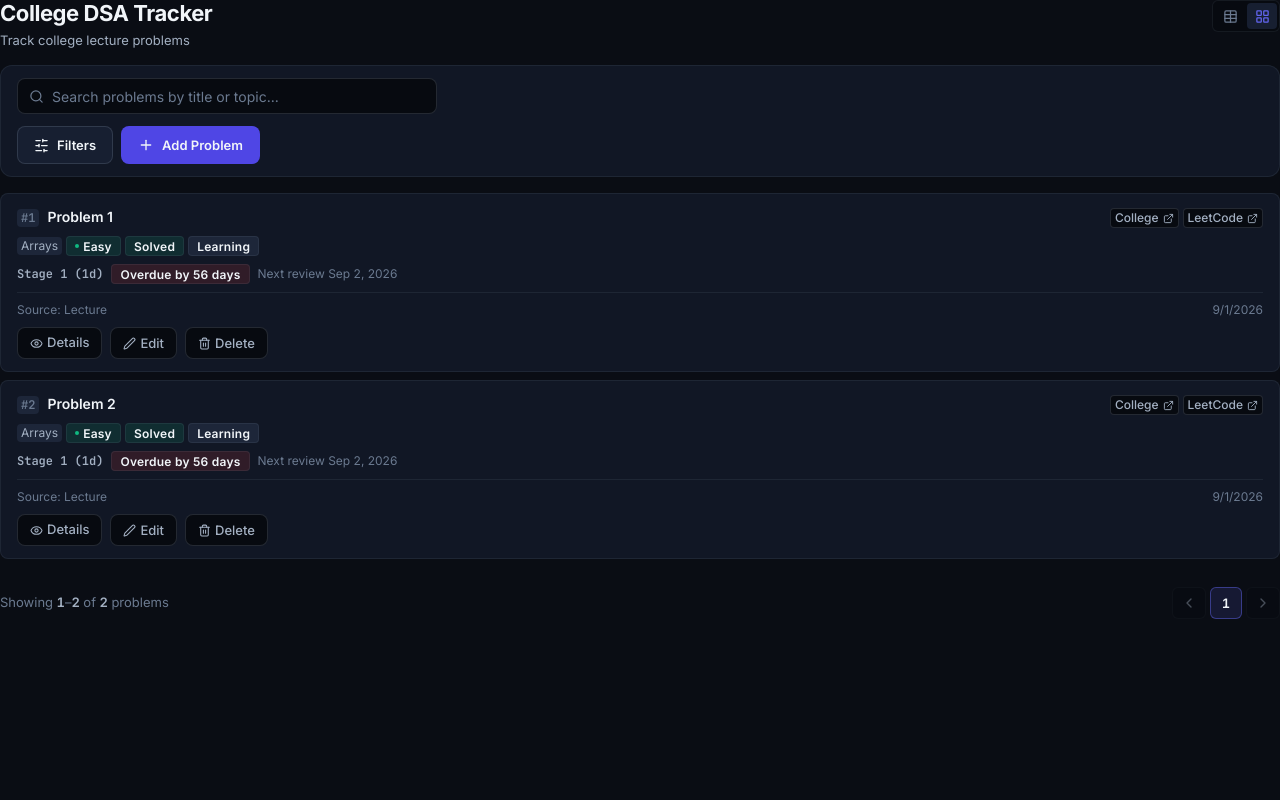
it: Phase 6 — Tracker toolbar and mobile filter drawer › moves the filters into a dialog drawer on narrow screens and closes it again
Expected: the field showing "All Difficulties" is not shown
Click the button "Filters".
click(65, 145)  # box [17,126,113,164]
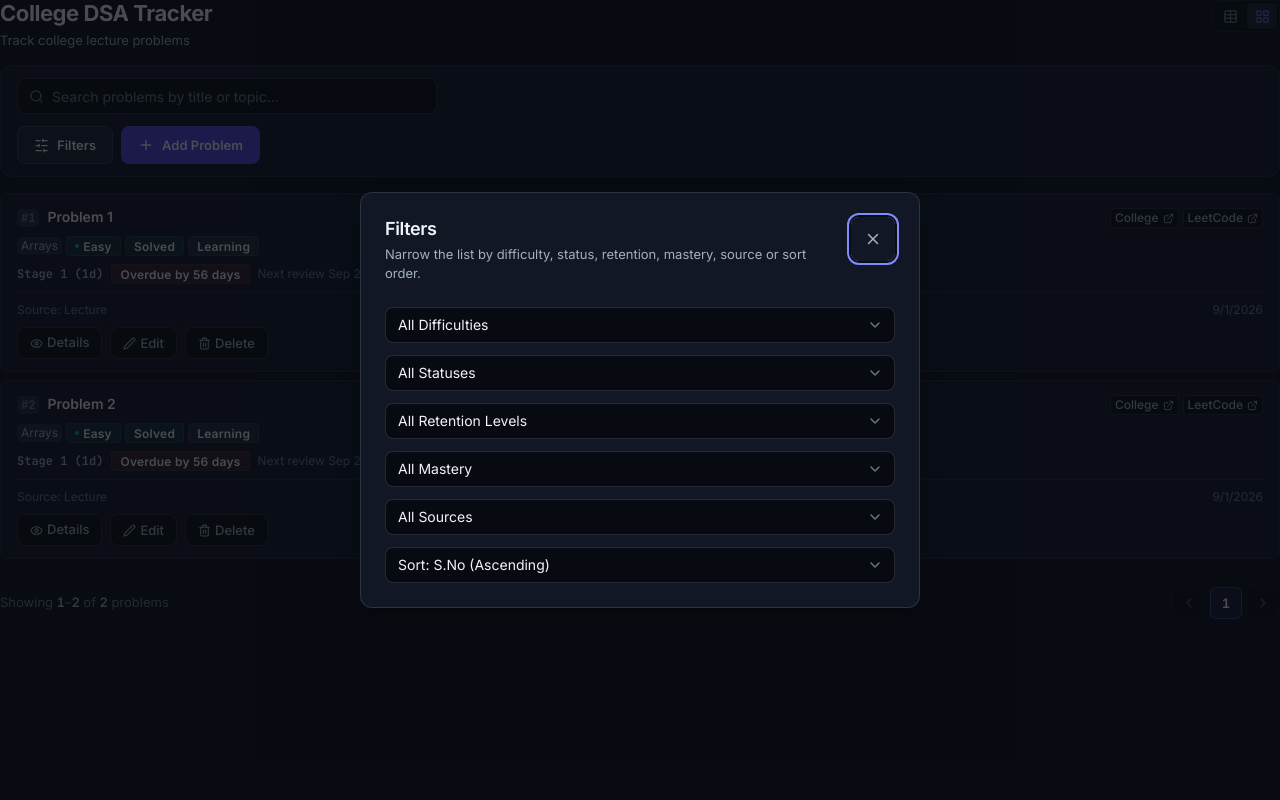
Expected: the dropdown showing "All Difficulties" is shown, [385,307,895,343]
Expected: the dropdown showing "Sort: S.No (Ascending)" is shown, [385,547,895,583]
Click the button named "close dialog".
click(873, 239)  # box [851,217,895,261]
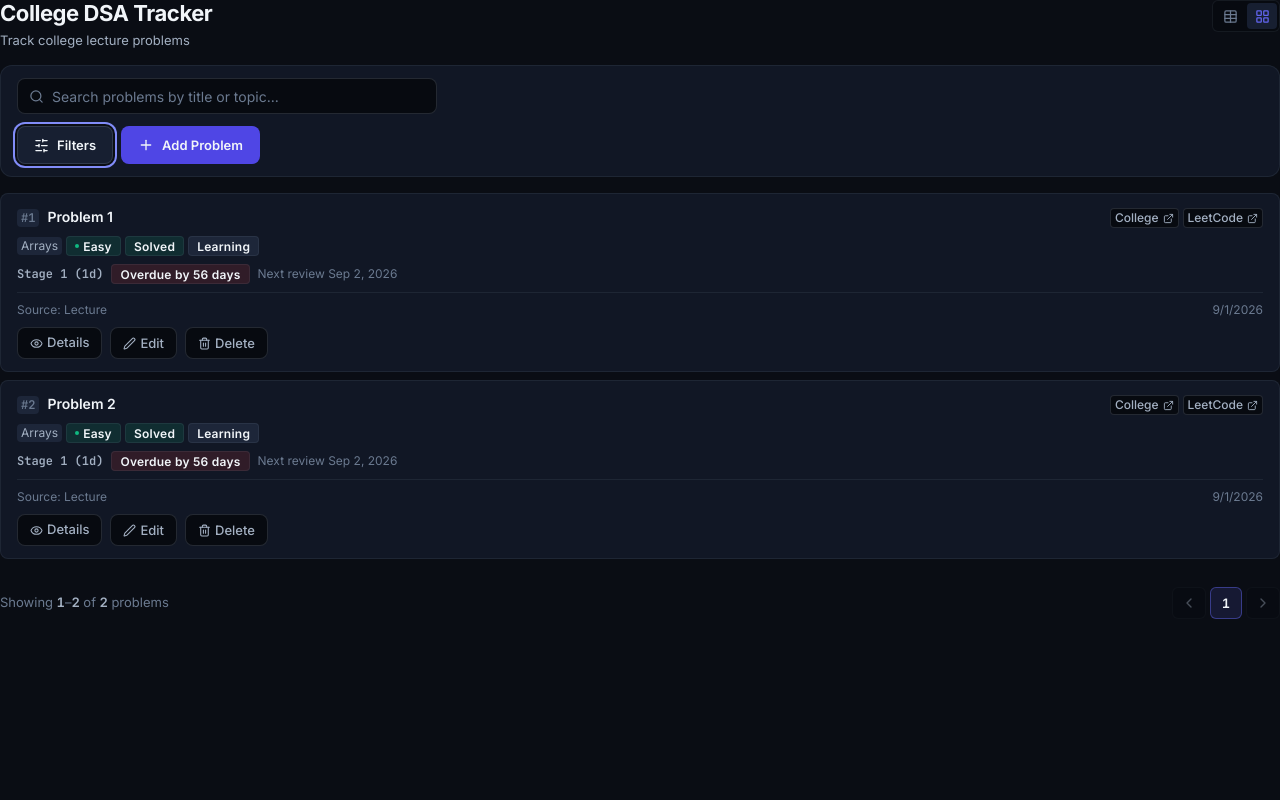
Expected: the dialog is gone
